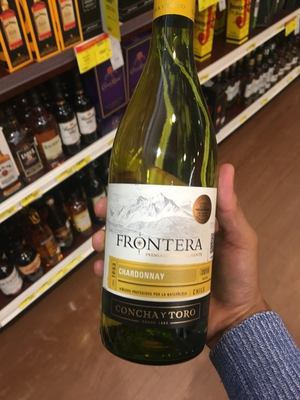frontera chardonnay: (96, 5, 247, 365)
